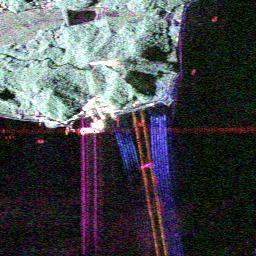Ship: (78, 125, 103, 135)
